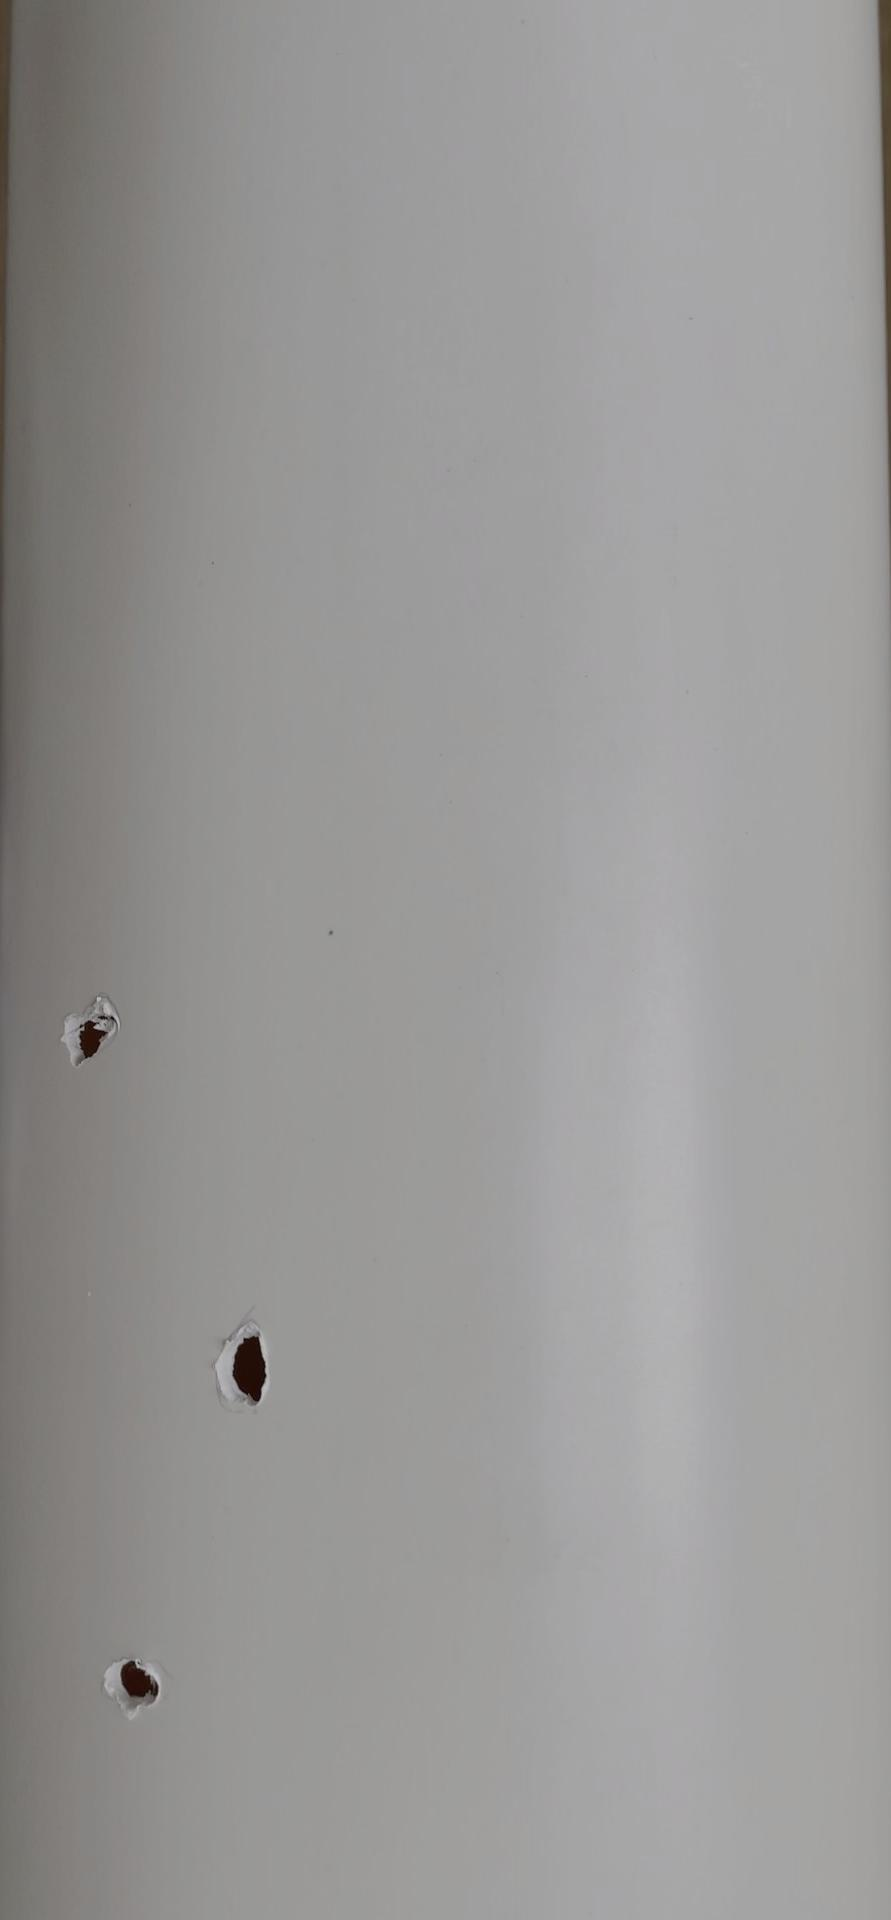kongdong: (202, 1313, 286, 1422), (49, 992, 129, 1081), (97, 1647, 170, 1720)
